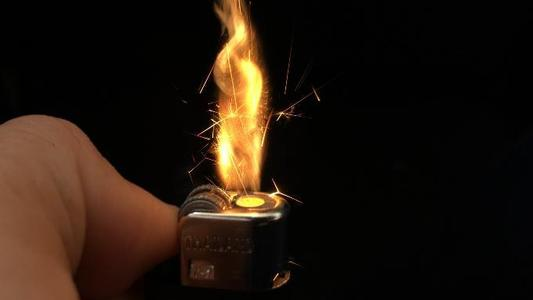fire: (193, 3, 298, 195)
